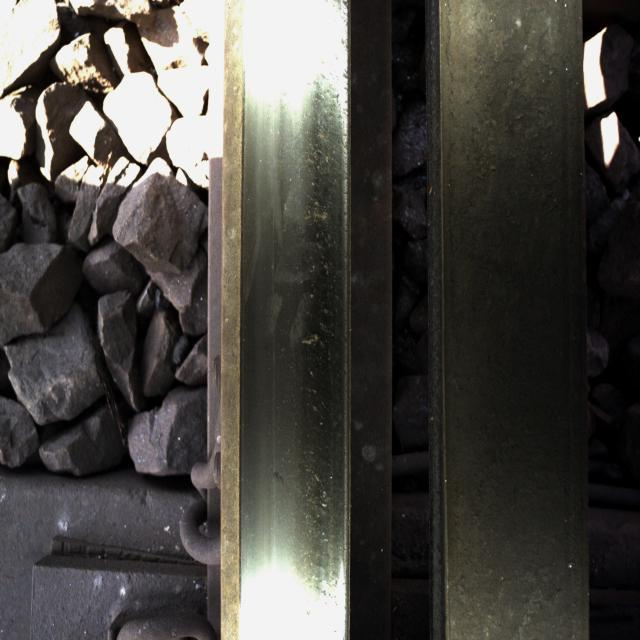scar: (278, 63, 344, 598)
